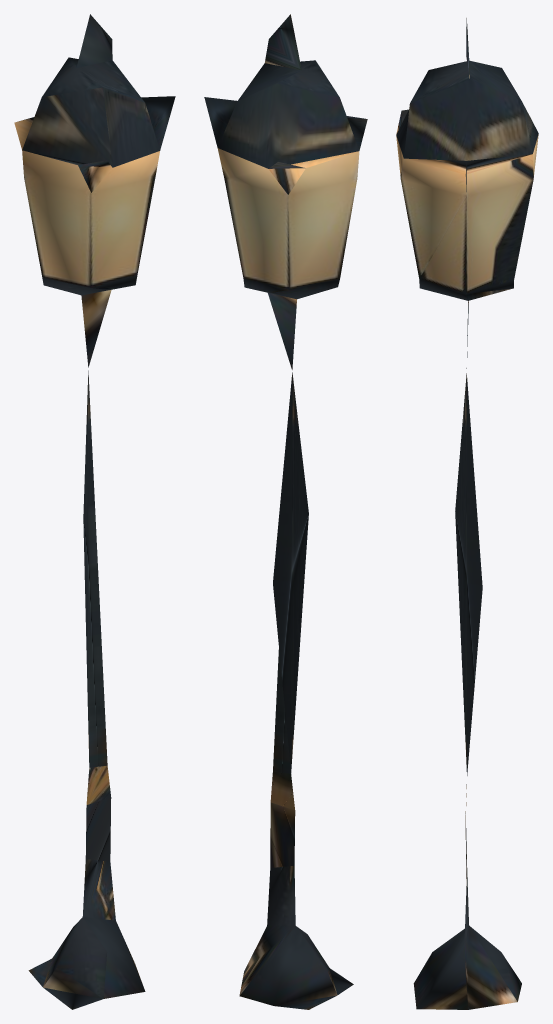
The model's file is street_lamp.glb.
3 views of the same model, side by side, from view 1: azimuth 30°, elevation 25°; view 2: azimuth 150°, elevation 25°; view 3: azimuth 270°, elevation 25° (orthographic).
Bounding box in the file's own units: 0.1249 × 0.7524 × 0.0989.
Materials: 1 (1 with a texture image).
